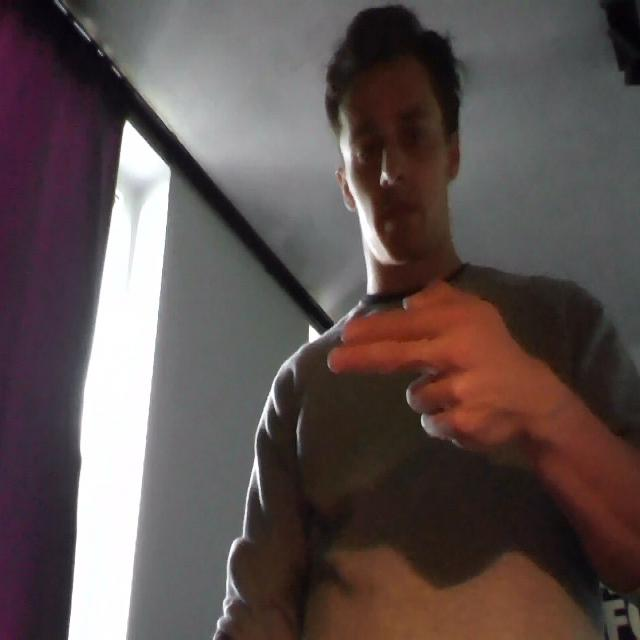left: (317, 271, 546, 457)
